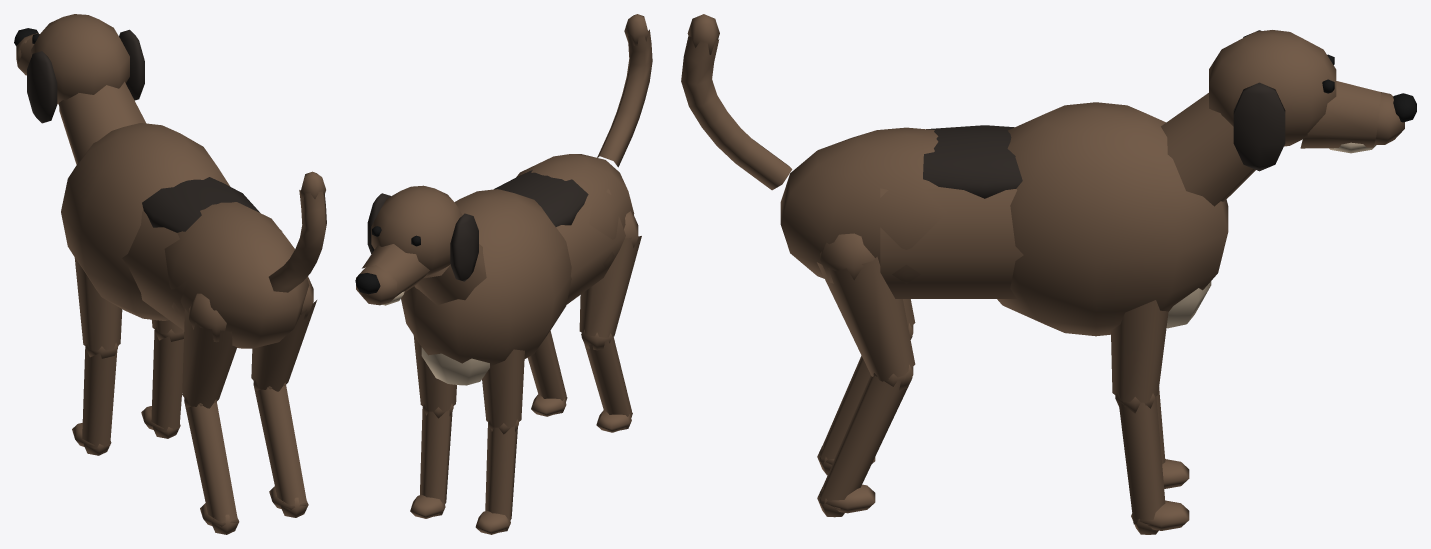
The model's file is dog.glb.
The picture shows the model from 3 angles, left to right: view 1: azimuth 30°, elevation 25°; view 2: azimuth 150°, elevation 25°; view 3: azimuth 270°, elevation 25°; orthographic projection. The views are drawn at different scales.
Visible parts, largest first — view 1: body_mesh, head_mesh, leg_br_mesh, leg_bl_mesh, leg_fr_mesh, leg_fl_mesh, tail_mesh; view 2: body_mesh, head_mesh, leg_br_mesh, leg_fr_mesh, leg_fl_mesh, tail_mesh, leg_bl_mesh; view 3: body_mesh, head_mesh, leg_bl_mesh, leg_fl_mesh, tail_mesh, leg_br_mesh, leg_fr_mesh.
Boxes of the visible parts, x1,y1,x2,y2 form: body_mesh: (59, 81, 309, 348); head_mesh: (14, 14, 144, 123); leg_br_mesh: (182, 293, 239, 534); leg_bl_mesh: (251, 276, 316, 517); leg_fr_mesh: (72, 257, 122, 455); leg_fl_mesh: (141, 319, 184, 438); tail_mesh: (268, 171, 326, 292); body_mesh: (401, 154, 634, 385); head_mesh: (355, 185, 478, 305); leg_br_mesh: (579, 211, 641, 432); leg_fr_mesh: (475, 349, 524, 534); leg_fl_mesh: (410, 335, 456, 518); tail_mesh: (597, 14, 652, 167); leg_bl_mesh: (528, 331, 567, 416); body_mesh: (780, 93, 1255, 336); head_mesh: (1209, 30, 1416, 171); leg_bl_mesh: (817, 233, 915, 517); leg_fl_mesh: (1111, 300, 1189, 534); tail_mesh: (681, 14, 792, 190); leg_br_mesh: (817, 299, 915, 475); leg_fr_mesh: (1156, 387, 1189, 488).
Size of the model in its own units: 0.3128 by 0.8444 by 1.13.
